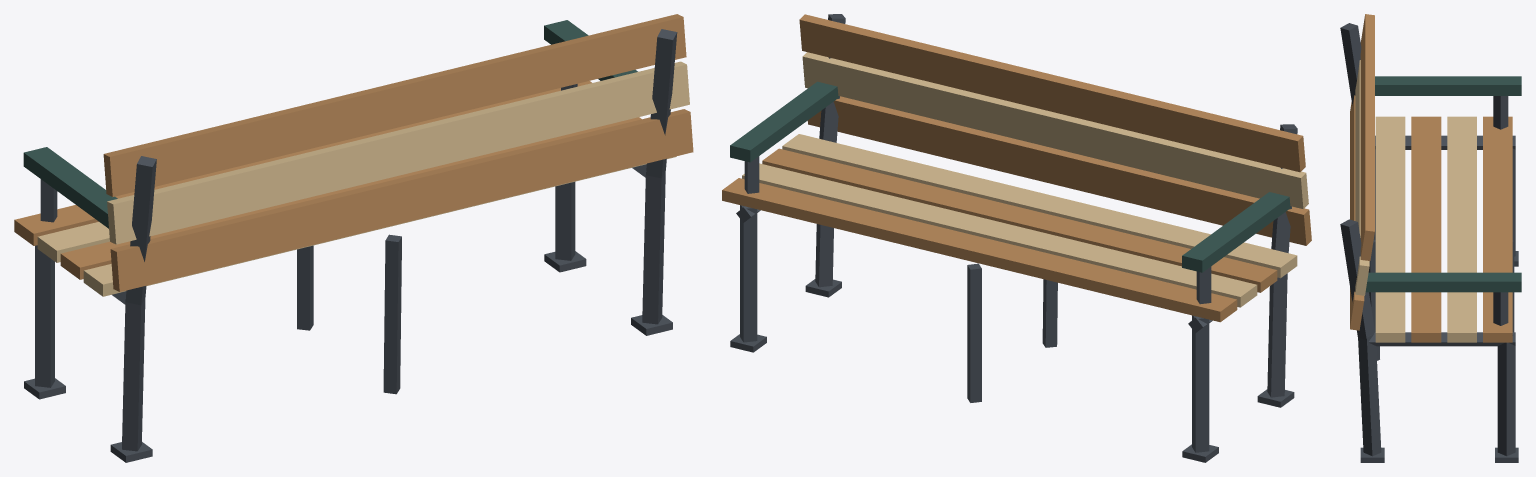
The model's file is bench.glb.
3 views of the same model, side by side, from view 1: azimuth 30°, elevation 25°; view 2: azimuth 150°, elevation 25°; view 3: azimuth 270°, elevation 25° (orthographic). The views are drawn at different scales.
Parts seen in each view (by area): view 1: Body; view 2: Body; view 3: Body.
Part boxes in pixels (left/top/right/bottom): Body: left=14, top=14, right=693, bottom=462; Body: left=722, top=14, right=1311, bottom=462; Body: left=1340, top=14, right=1521, bottom=462.
Size of the model in its own units: 1.72 by 0.8812 by 0.6087.
